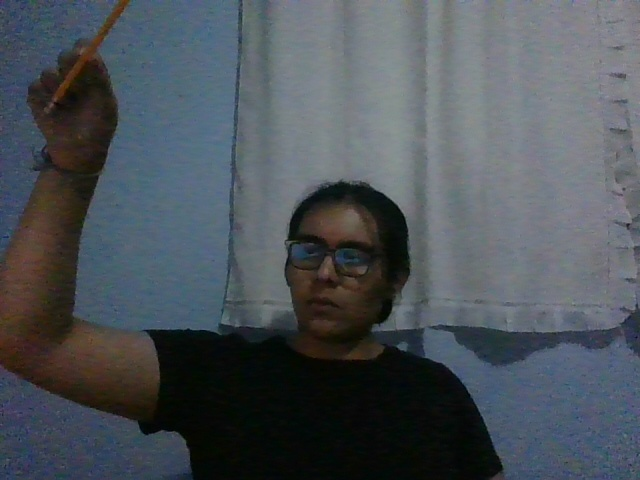lapiz: (41, 1, 129, 116)
